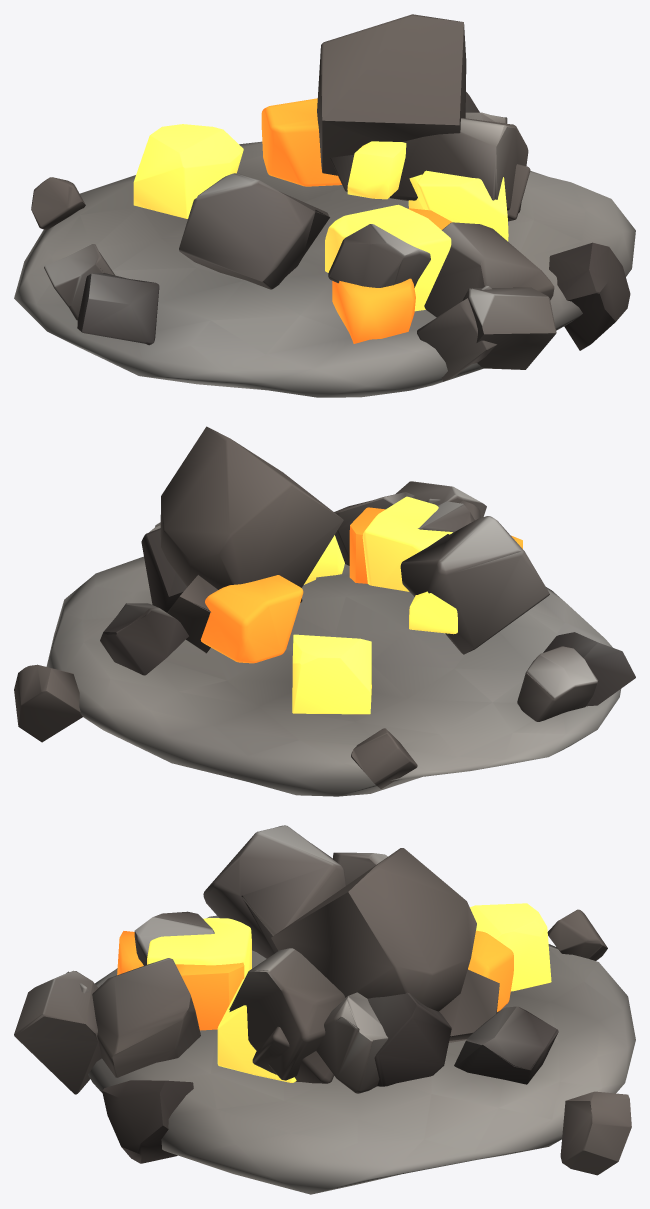
Rendered from ember_cinder_cairn.glb.
3 views of the same model, one above another, from view 1: azimuth 30°, elevation 25°; view 2: azimuth 150°, elevation 25°; view 3: azimuth 270°, elevation 25° (orthographic). The views are drawn at different scales.
Parts seen in each view (by area): view 1: ember_cinder_cairn, glow; view 2: ember_cinder_cairn, glow; view 3: ember_cinder_cairn, glow.
Boxes of the visible parts, x1,y1,x2,y2 form: ember_cinder_cairn: (14, 14, 635, 397); glow: (133, 98, 508, 343); ember_cinder_cairn: (14, 426, 635, 796); glow: (200, 496, 522, 714); ember_cinder_cairn: (14, 825, 635, 1194); glow: (117, 903, 551, 1082).
Bounding box in the file's own units: 8.42 × 3.89 × 7.93.
